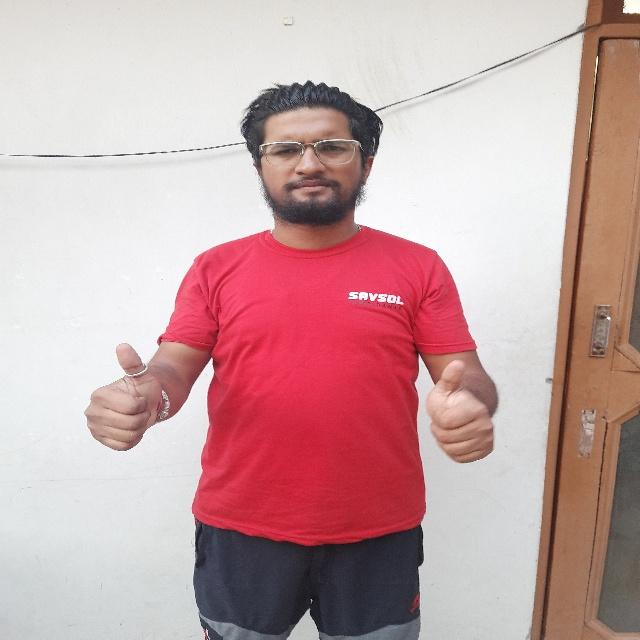Thumbs Up: (75, 335, 174, 459), (418, 352, 500, 468)
